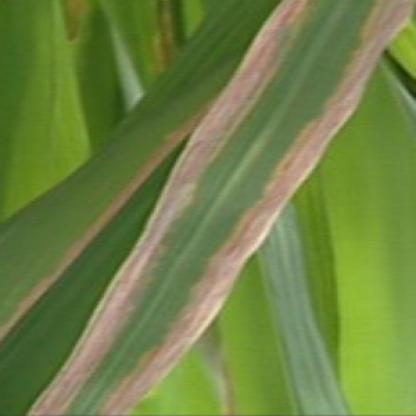Blight: (29, 1, 416, 416)
